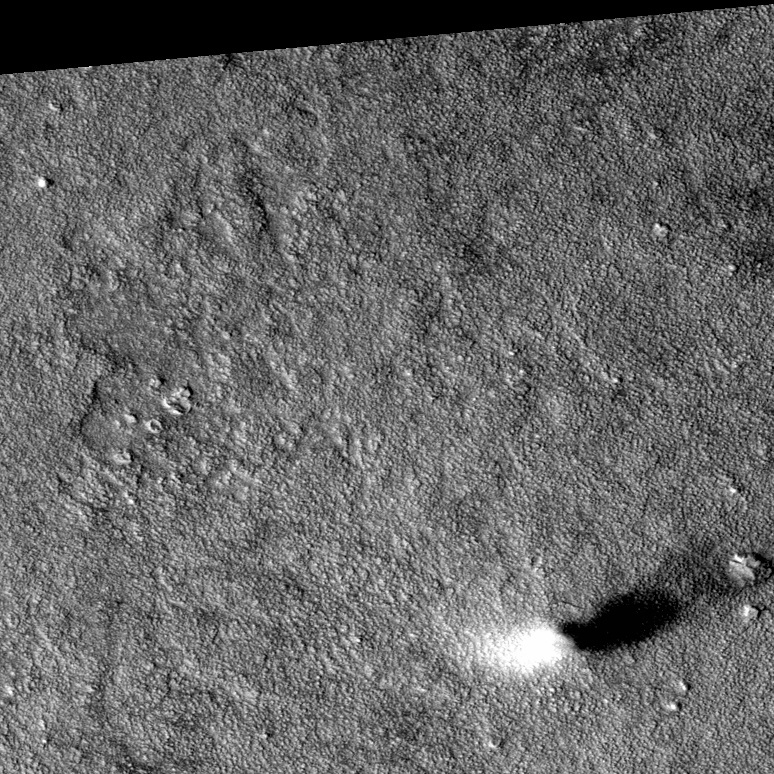dust_devil: (465, 534, 742, 679)
